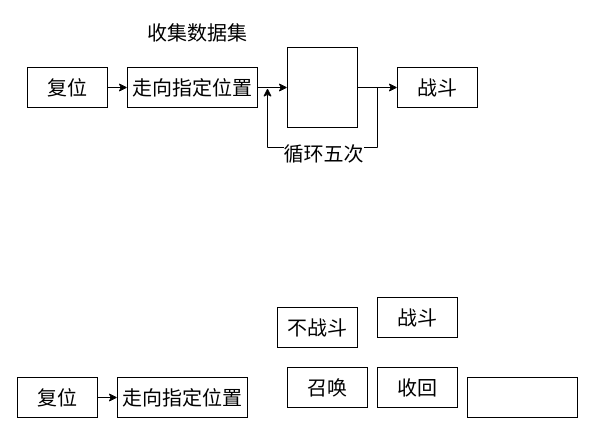
Image size: 595x435. Some labels were removed from this diagram. Here are the shapes that lost their labels. From the top down, the centre of each, then its label:
At point (322, 87): "找血条截图传服务器".
At point (522, 397): "返回界面".
